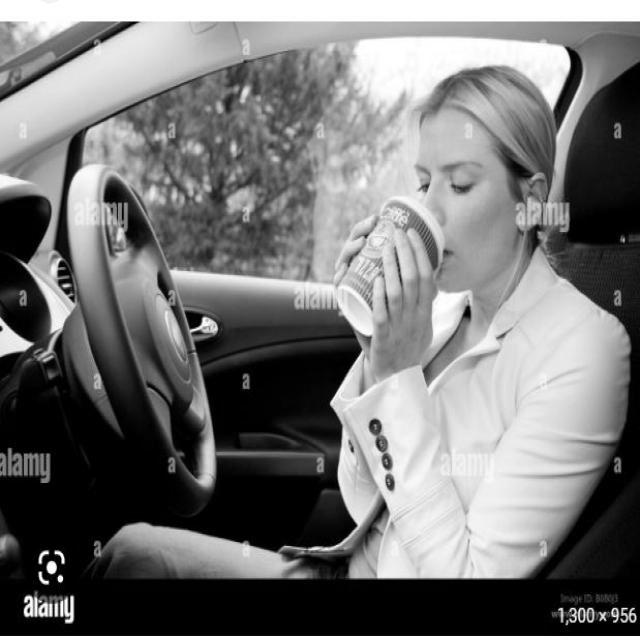Drinking: (334, 196, 448, 336)
